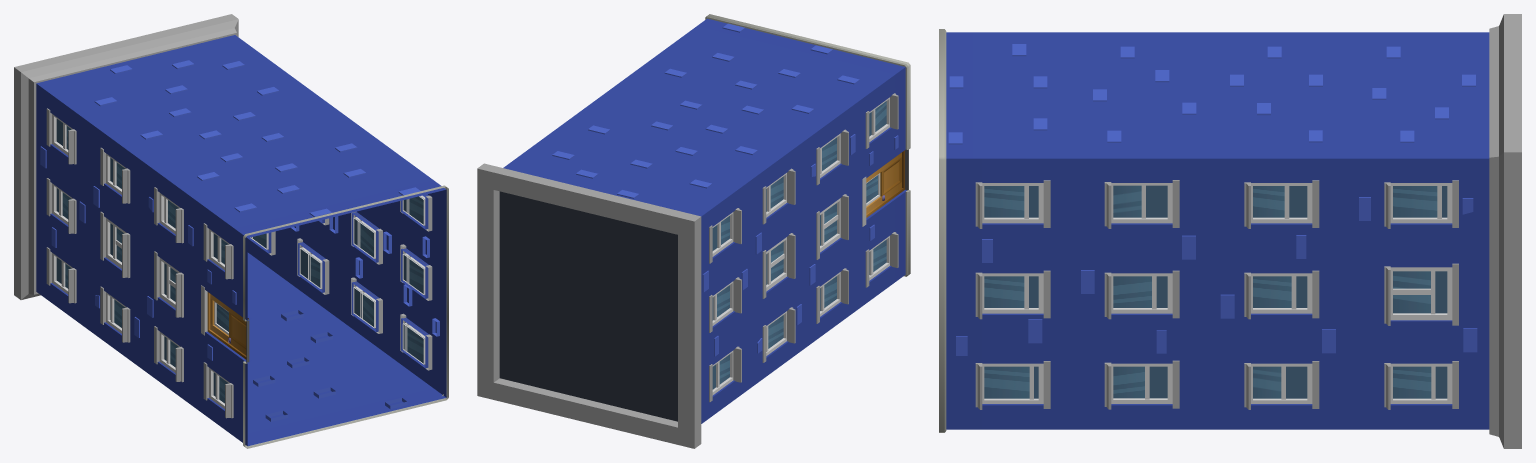
File: Building_2_5_C.fbx
3 views of the same model, side by side, from view 1: azimuth 30°, elevation 25°; view 2: azimuth 150°, elevation 25°; view 3: azimuth 270°, elevation 25° (orthographic). The views are drawn at different scales.
Visible parts, largest first — view 1: Building_2_5_C; view 2: Building_2_5_C; view 3: Building_2_5_C.
Boxes of the visible parts, x1,y1,x2,y2 form: Building_2_5_C: (14,14,448,448); Building_2_5_C: (477,14,910,448); Building_2_5_C: (939,14,1521,448).
Bounding box in the file's own units: 620 × 620 × 1105.
